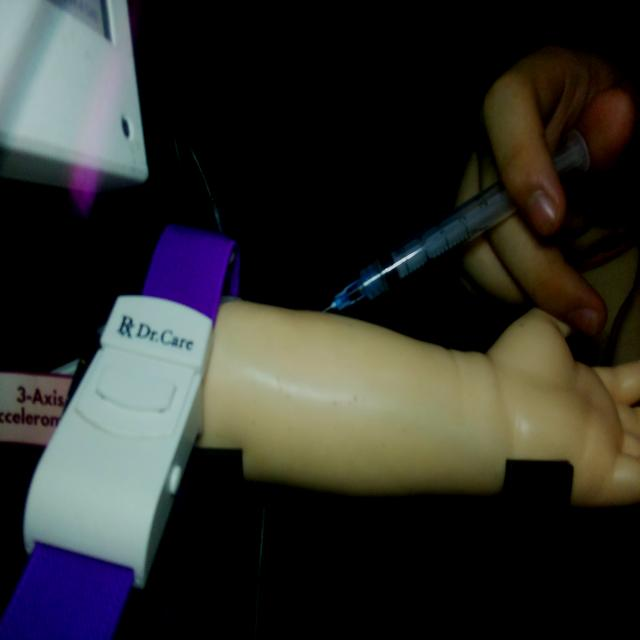24 degrees: (321, 126, 591, 316)
